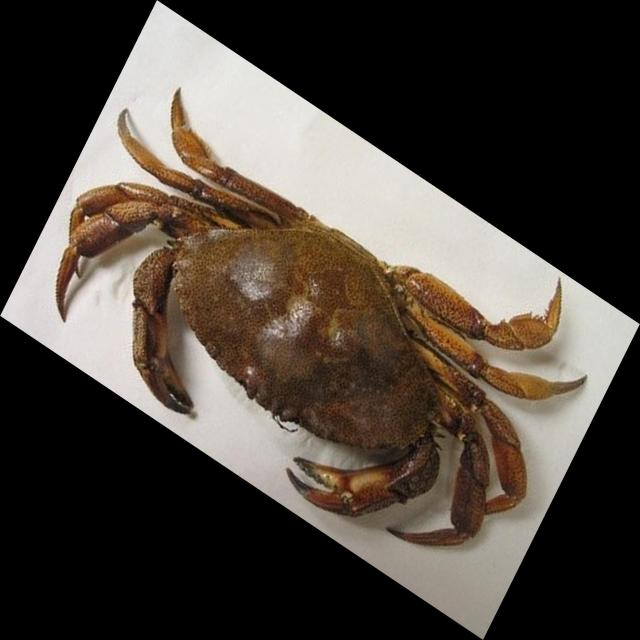Native Rock crab: (55, 89, 587, 546)
